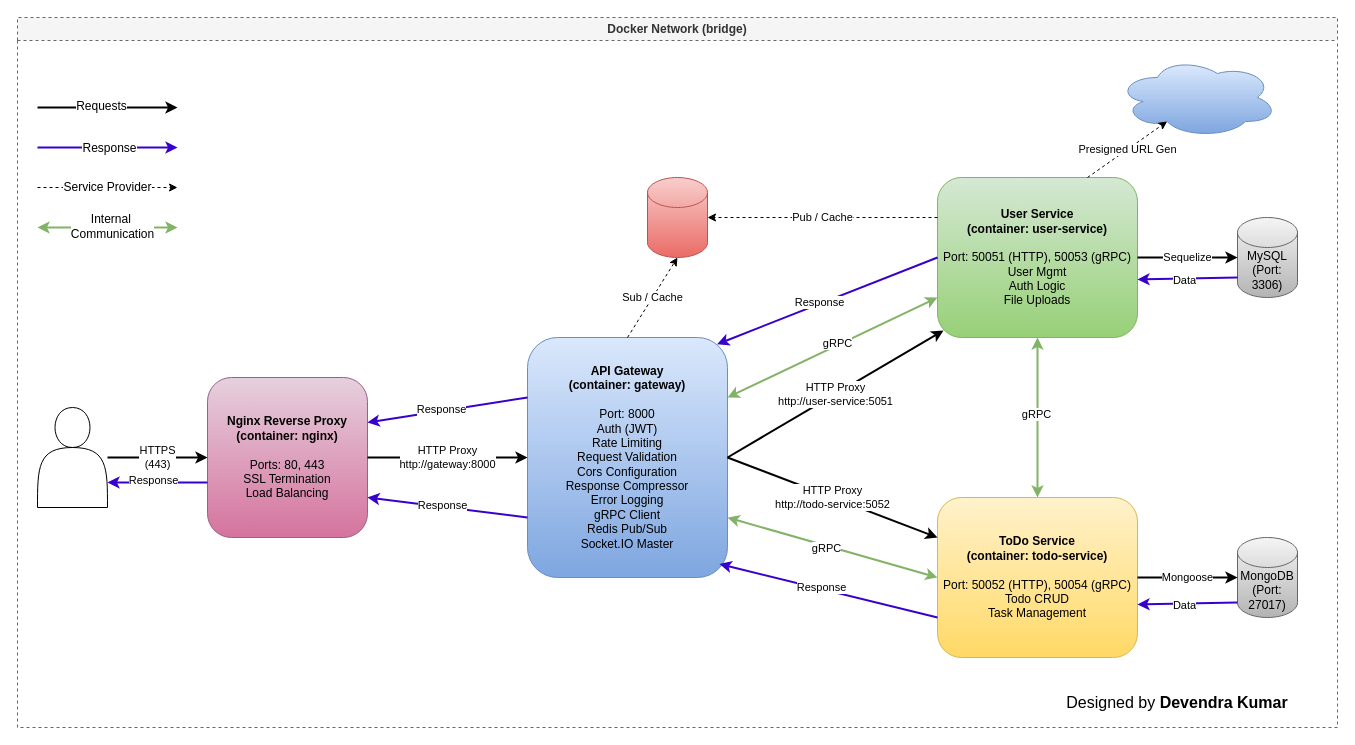
Some shapes in this 1355 by 745 pixel diagram are drawn without their labels. The shapes that lost their labels are listed below. From the top down, each one's box as (x1, y1, x2, y2) in pixels, then its label:
(1116, 56, 1278, 138): AWS S3 (External Storage)
(646, 176, 708, 258): Redis (Port: 6379)
(36, 406, 108, 508): Client (Browser / Mobile)
